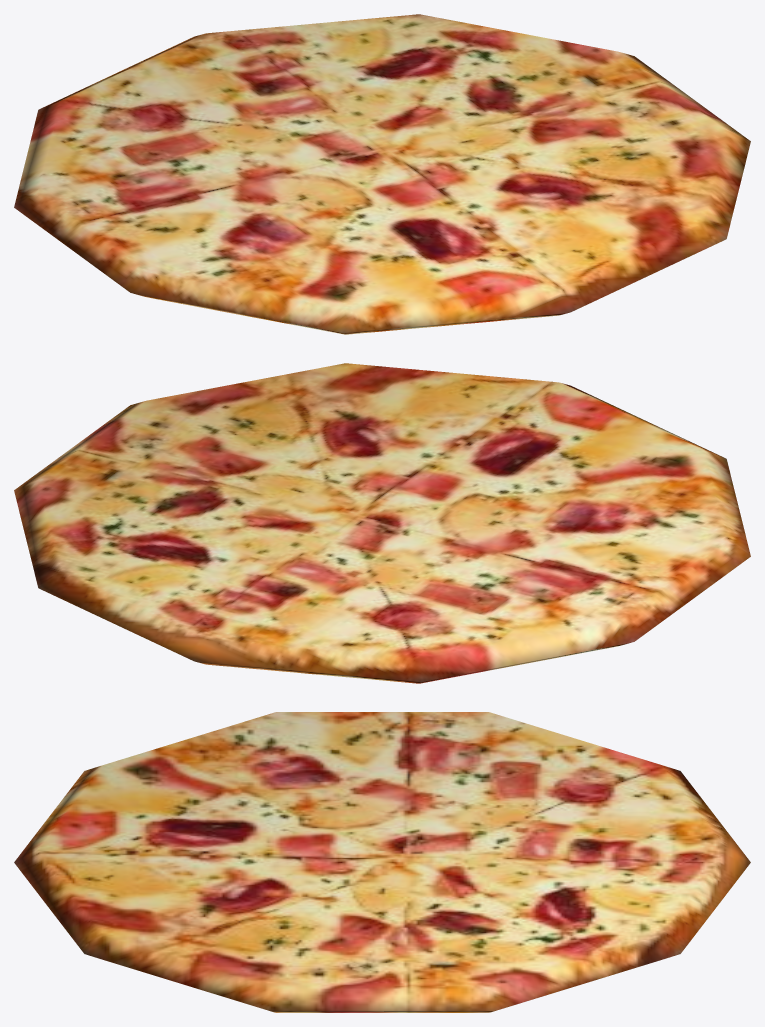
File: Pizza_01.glb
3 renders of one model, top to bottom at view 1: azimuth 30°, elevation 25°; view 2: azimuth 150°, elevation 25°; view 3: azimuth 270°, elevation 25°, orthographic. The views are drawn at different scales.
Visible parts, largest first — view 1: Pizza_01; view 2: Pizza_01; view 3: Pizza_01.
Part boxes in pixels (bbox=[...]): Pizza_01: bbox=[14, 14, 750, 334]; Pizza_01: bbox=[14, 363, 750, 683]; Pizza_01: bbox=[14, 712, 750, 1012].
Bounding box in the file's own units: 0.5491 × 0.0205 × 0.5774.
Materials: 1 (1 with a texture image).
